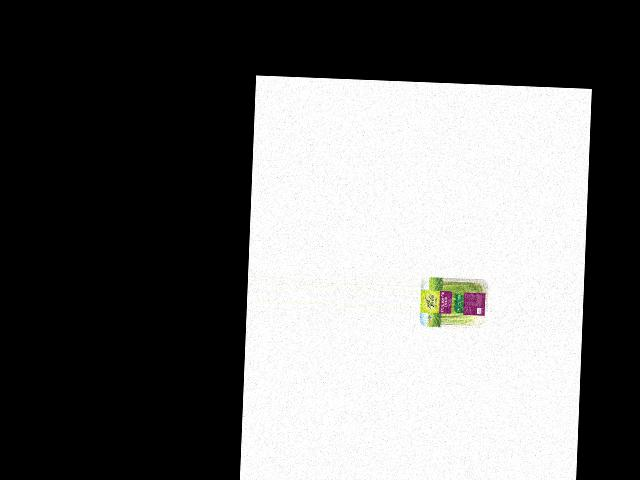lettuce: (424, 276, 489, 330)
